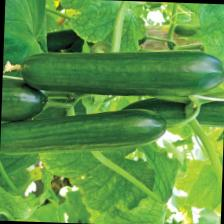cucumber: (18, 43, 224, 100), (0, 103, 167, 161)
